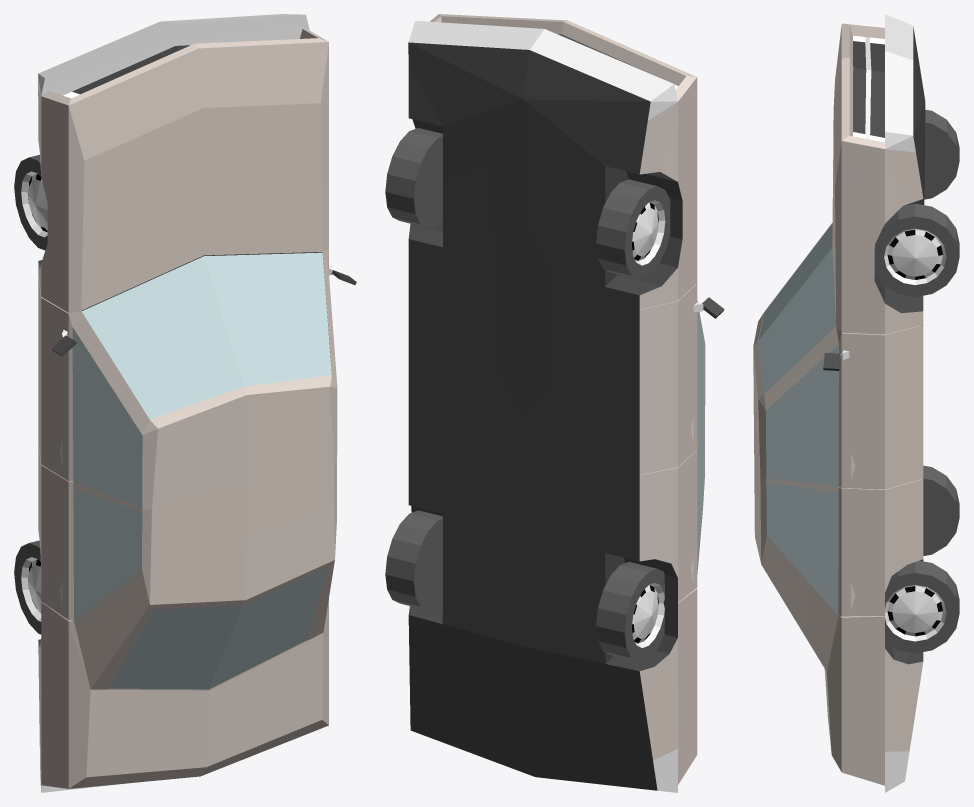
Rendered from vehicle.glb.
3 views of the same model, side by side, from view 1: azimuth 30°, elevation 25°; view 2: azimuth 150°, elevation 25°; view 3: azimuth 270°, elevation 25° (orthographic). The views are drawn at different scales.
Visible parts, largest first — view 1: SedanA_Body, SedanA_DoorL, SedanA_DoorL2, Sedan_A_wheelFL, Sedan_A_wheelRL; view 2: SedanA_Body, SedanA_DoorL, SedanA_DoorL2, Sedan_A_wheelFL, Sedan_A_wheelRL, Sedan_A_wheelFR, Sedan_A_wheelRR; view 3: SedanA_Body, SedanA_DoorR, SedanA_DoorR2, Sedan_A_wheelFR, Sedan_A_wheelRR, Sedan_A_wheelRL, Sedan_A_wheelFL.
Part boxes in pixels (x1=…): SedanA_Body: x1=38, y1=14, x2=337, y2=792; SedanA_DoorL: x1=38, y1=277, x2=142, y2=507; SedanA_DoorL2: x1=38, y1=444, x2=142, y2=620; Sedan_A_wheelFL: x1=14, y1=154, x2=47, y2=250; Sedan_A_wheelRL: x1=14, y1=540, x2=41, y2=634; SedanA_Body: x1=408, y1=14, x2=704, y2=792; SedanA_DoorL: x1=639, y1=283, x2=724, y2=474; SedanA_DoorL2: x1=636, y1=421, x2=704, y2=602; Sedan_A_wheelFL: x1=596, y1=179, x2=670, y2=279; Sedan_A_wheelRL: x1=596, y1=562, x2=664, y2=661; Sedan_A_wheelFR: x1=385, y1=128, x2=442, y2=227; Sedan_A_wheelRR: x1=385, y1=510, x2=442, y2=610; SedanA_Body: x1=753, y1=14, x2=925, y2=792; SedanA_DoorR: x1=765, y1=325, x2=923, y2=489; SedanA_DoorR2: x1=766, y1=479, x2=923, y2=616; Sedan_A_wheelFR: x1=874, y1=203, x2=959, y2=296; Sedan_A_wheelRR: x1=885, y1=560, x2=959, y2=653; Sedan_A_wheelRL: x1=923, y1=465, x2=959, y2=555; Sedan_A_wheelFL: x1=924, y1=109, x2=959, y2=199.
Bounding box in the file's own units: 2.14 × 5.18 × 1.39.
2 materials, 2 textured.
